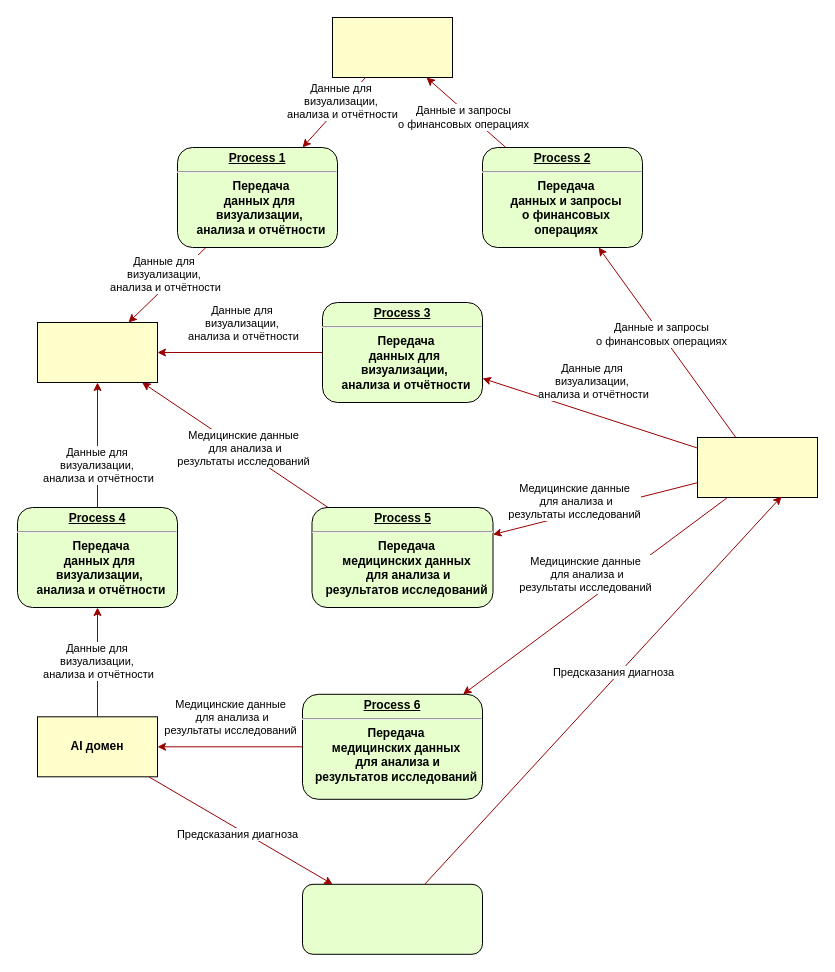
The diagram is 835 pixels wide and 972 high, and some of its shapes have lost their labels. The shapes that lost their labels are listed below. From the top down, each one's centre as x and y in pixels, then its label:
At (x=392, y=47): "FinTech Domain".
At (x=97, y=352): "BI домен".
At (x=757, y=467): "Medical Domain".
At (x=392, y=918): "Process 7 Передача предсказания диагноза".
